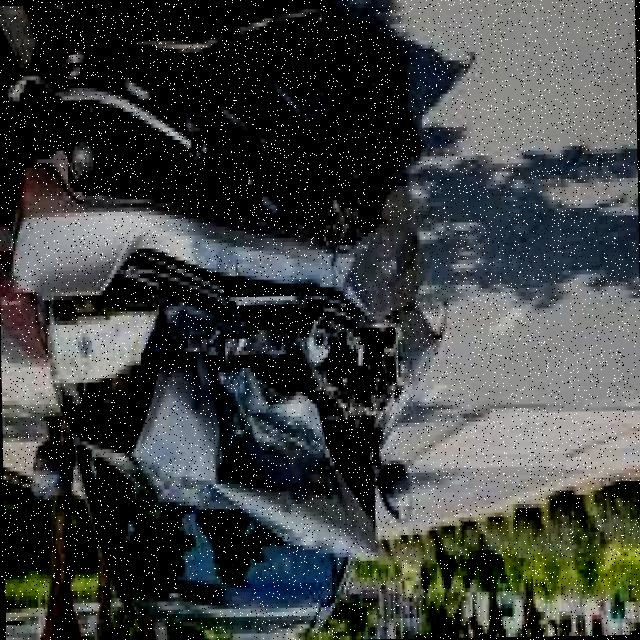Severe Damage: (1, 0, 414, 537)
